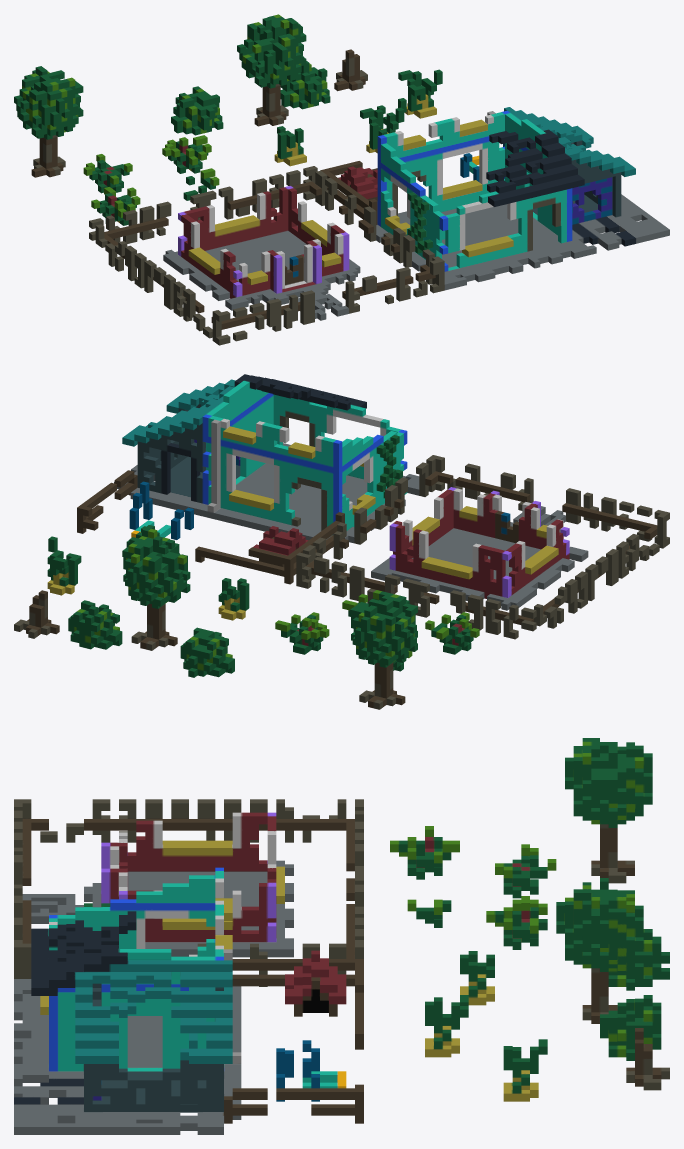
The model's file is building_small_3_destroyed.glb.
3 renders of one model, top to bottom at view 1: azimuth 30°, elevation 25°; view 2: azimuth 150°, elevation 25°; view 3: azimuth 270°, elevation 25°, orthographic. The views are drawn at different scales.
Parts seen in each view (by area): view 1: building_small_3_destroyed; view 2: building_small_3_destroyed; view 3: building_small_3_destroyed.
Boxes of the visible parts, x1=… form: building_small_3_destroyed: x1=14, y1=14, x2=669, y2=345; building_small_3_destroyed: x1=14, y1=374, x2=669, y2=709; building_small_3_destroyed: x1=14, y1=738, x2=669, y2=1134.
Bounding box in the file's own units: 8 × 1.7 × 7.5.
Materials: 1 (1 with a texture image).
